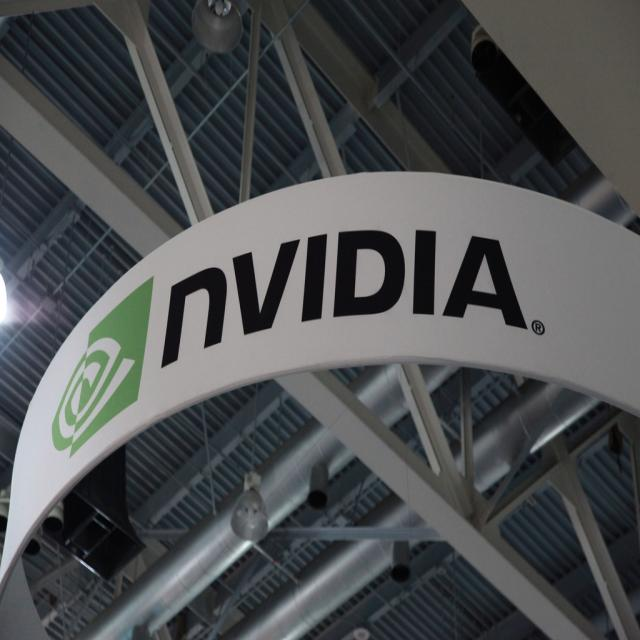nvidia: (52, 279, 156, 461)
